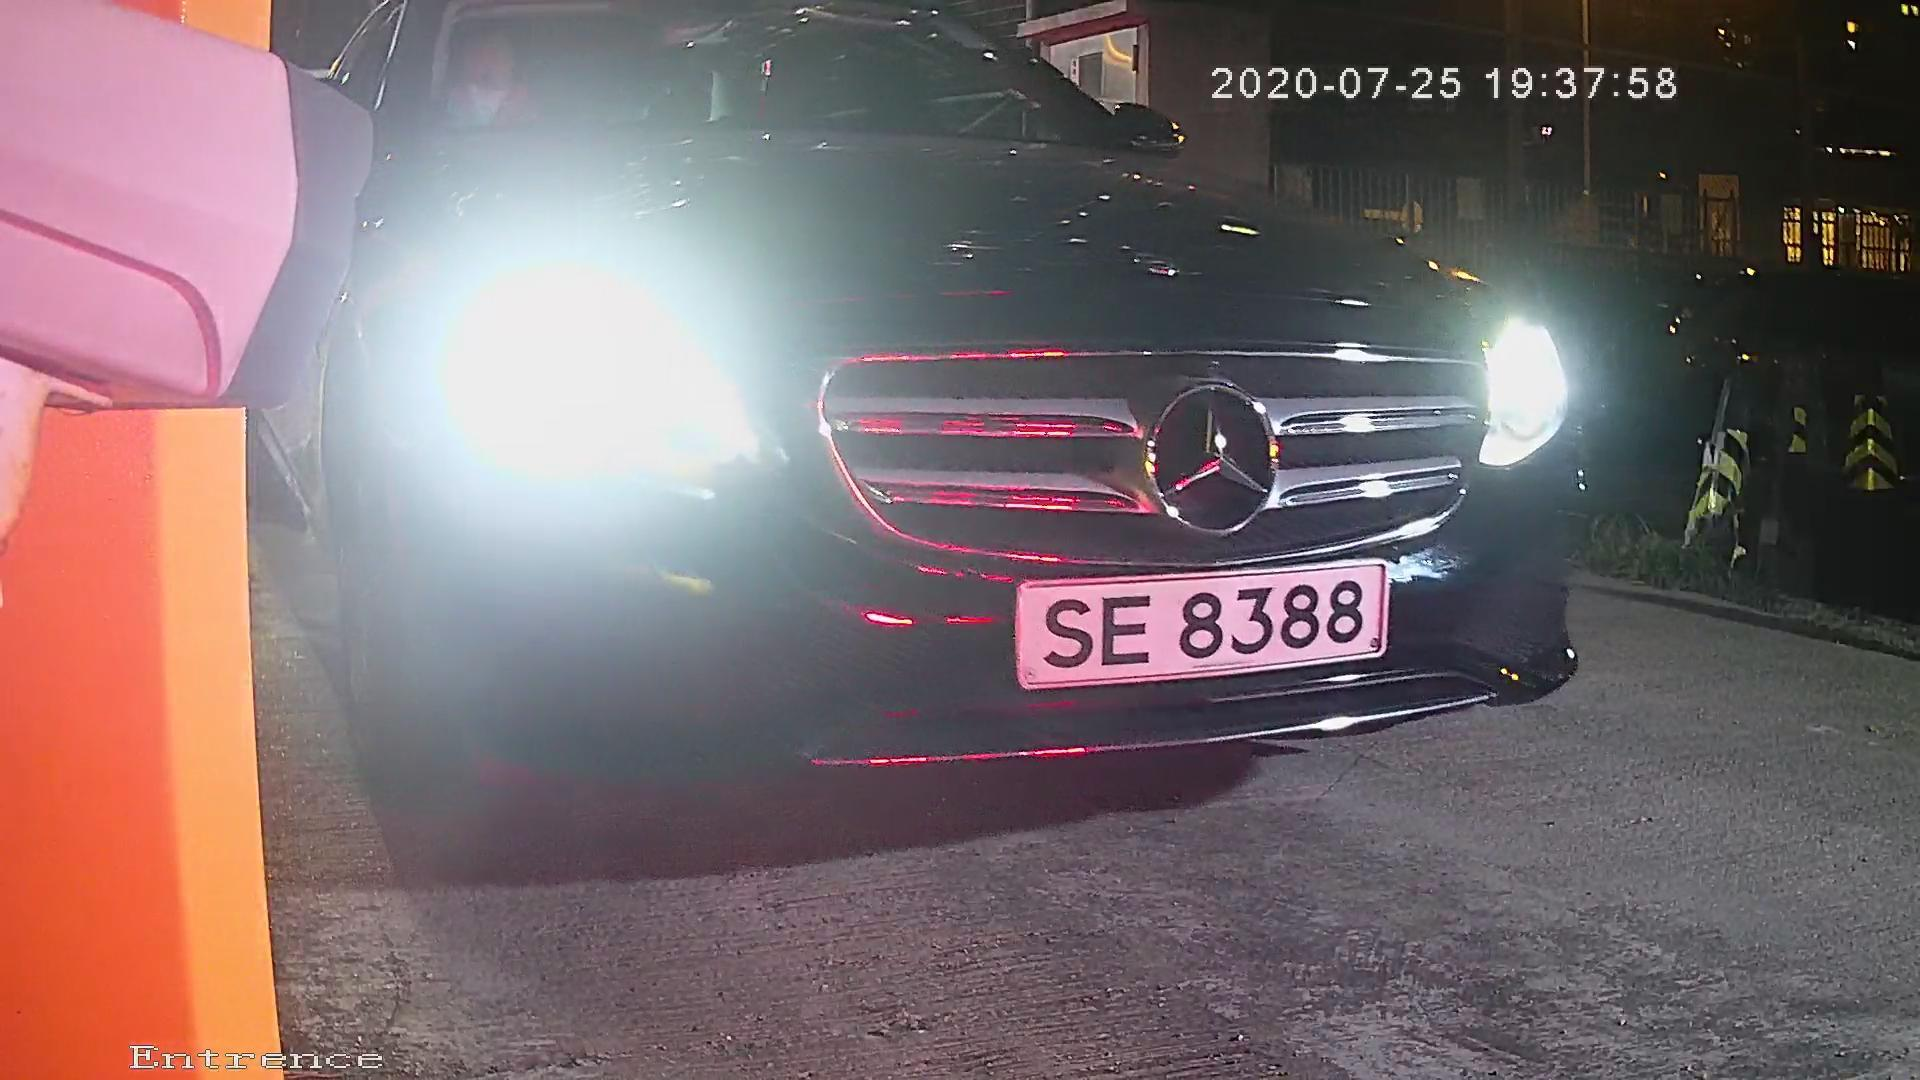privatecar: (335, 11, 1672, 864)
